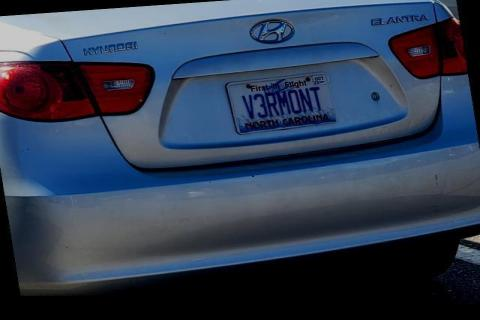LicensePlate: (223, 70, 338, 133)
